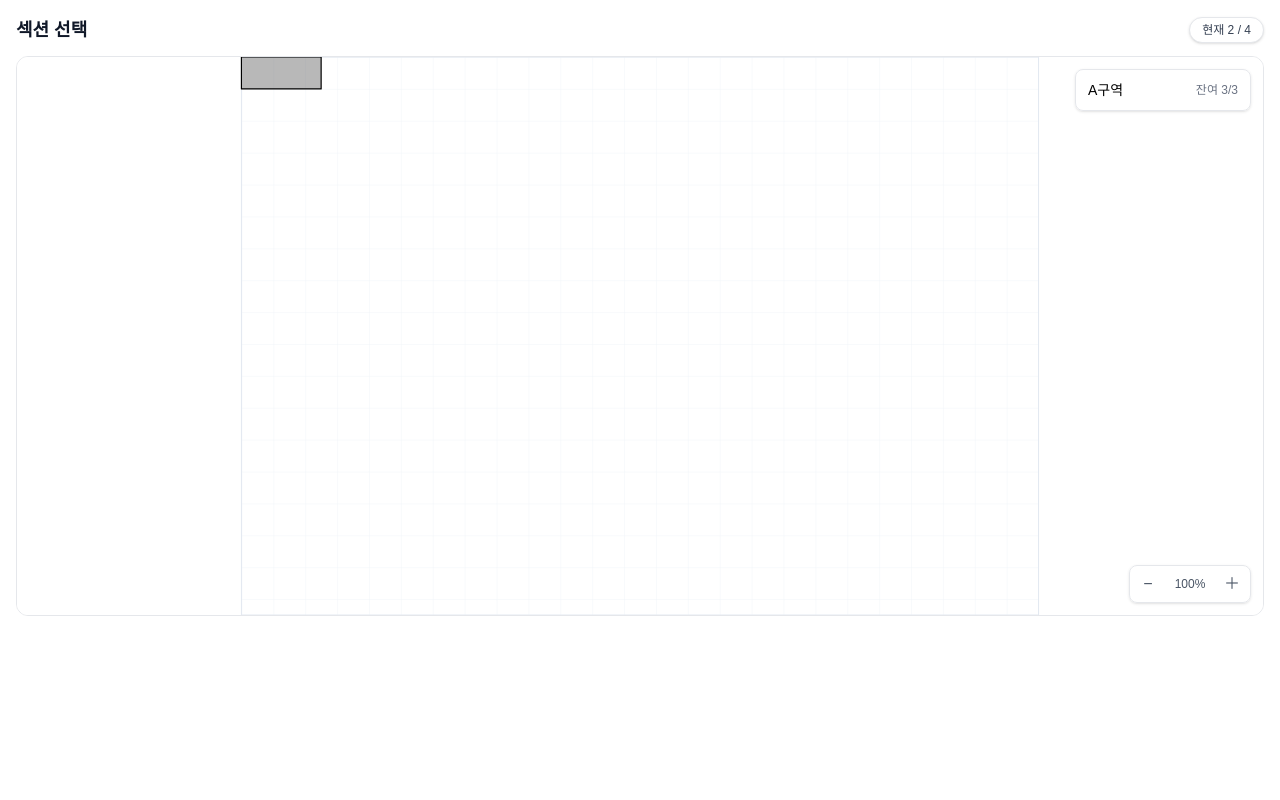
it: quota 카운터가 섹션 선택·좌석 선택 두 단계 모두 표시된다
Check: the text "현재 2 / 4" is shown, box [1189,17,1264,43]
Check: the heading "섹션 선택" is shown, box [16,16,87,44]
Click the button "A구역 잔여 3/3".
click(1163, 90)  # box [1080,74,1246,106]
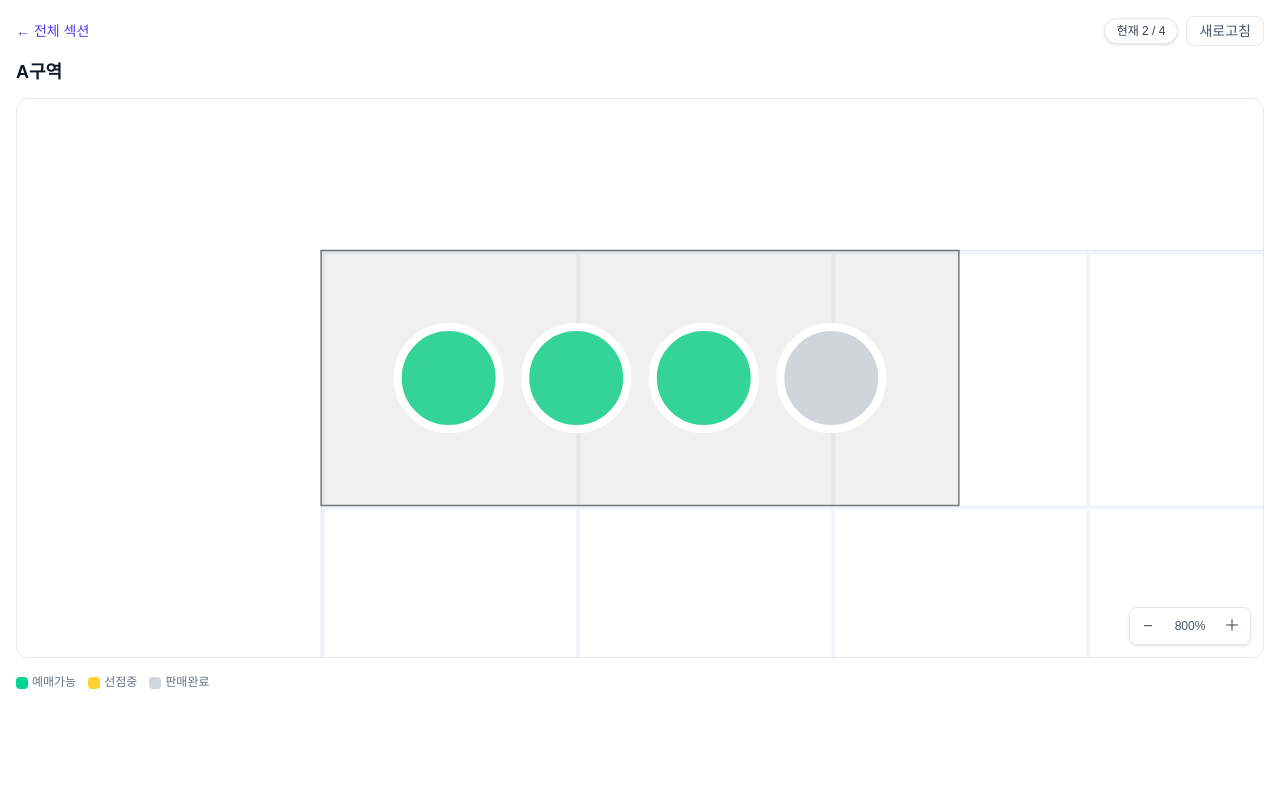
Check: the text "현재 2 / 4" is shown, box [1104,18,1178,44]
Check: the button "새로고침" is shown, box [1186,16,1264,46]
